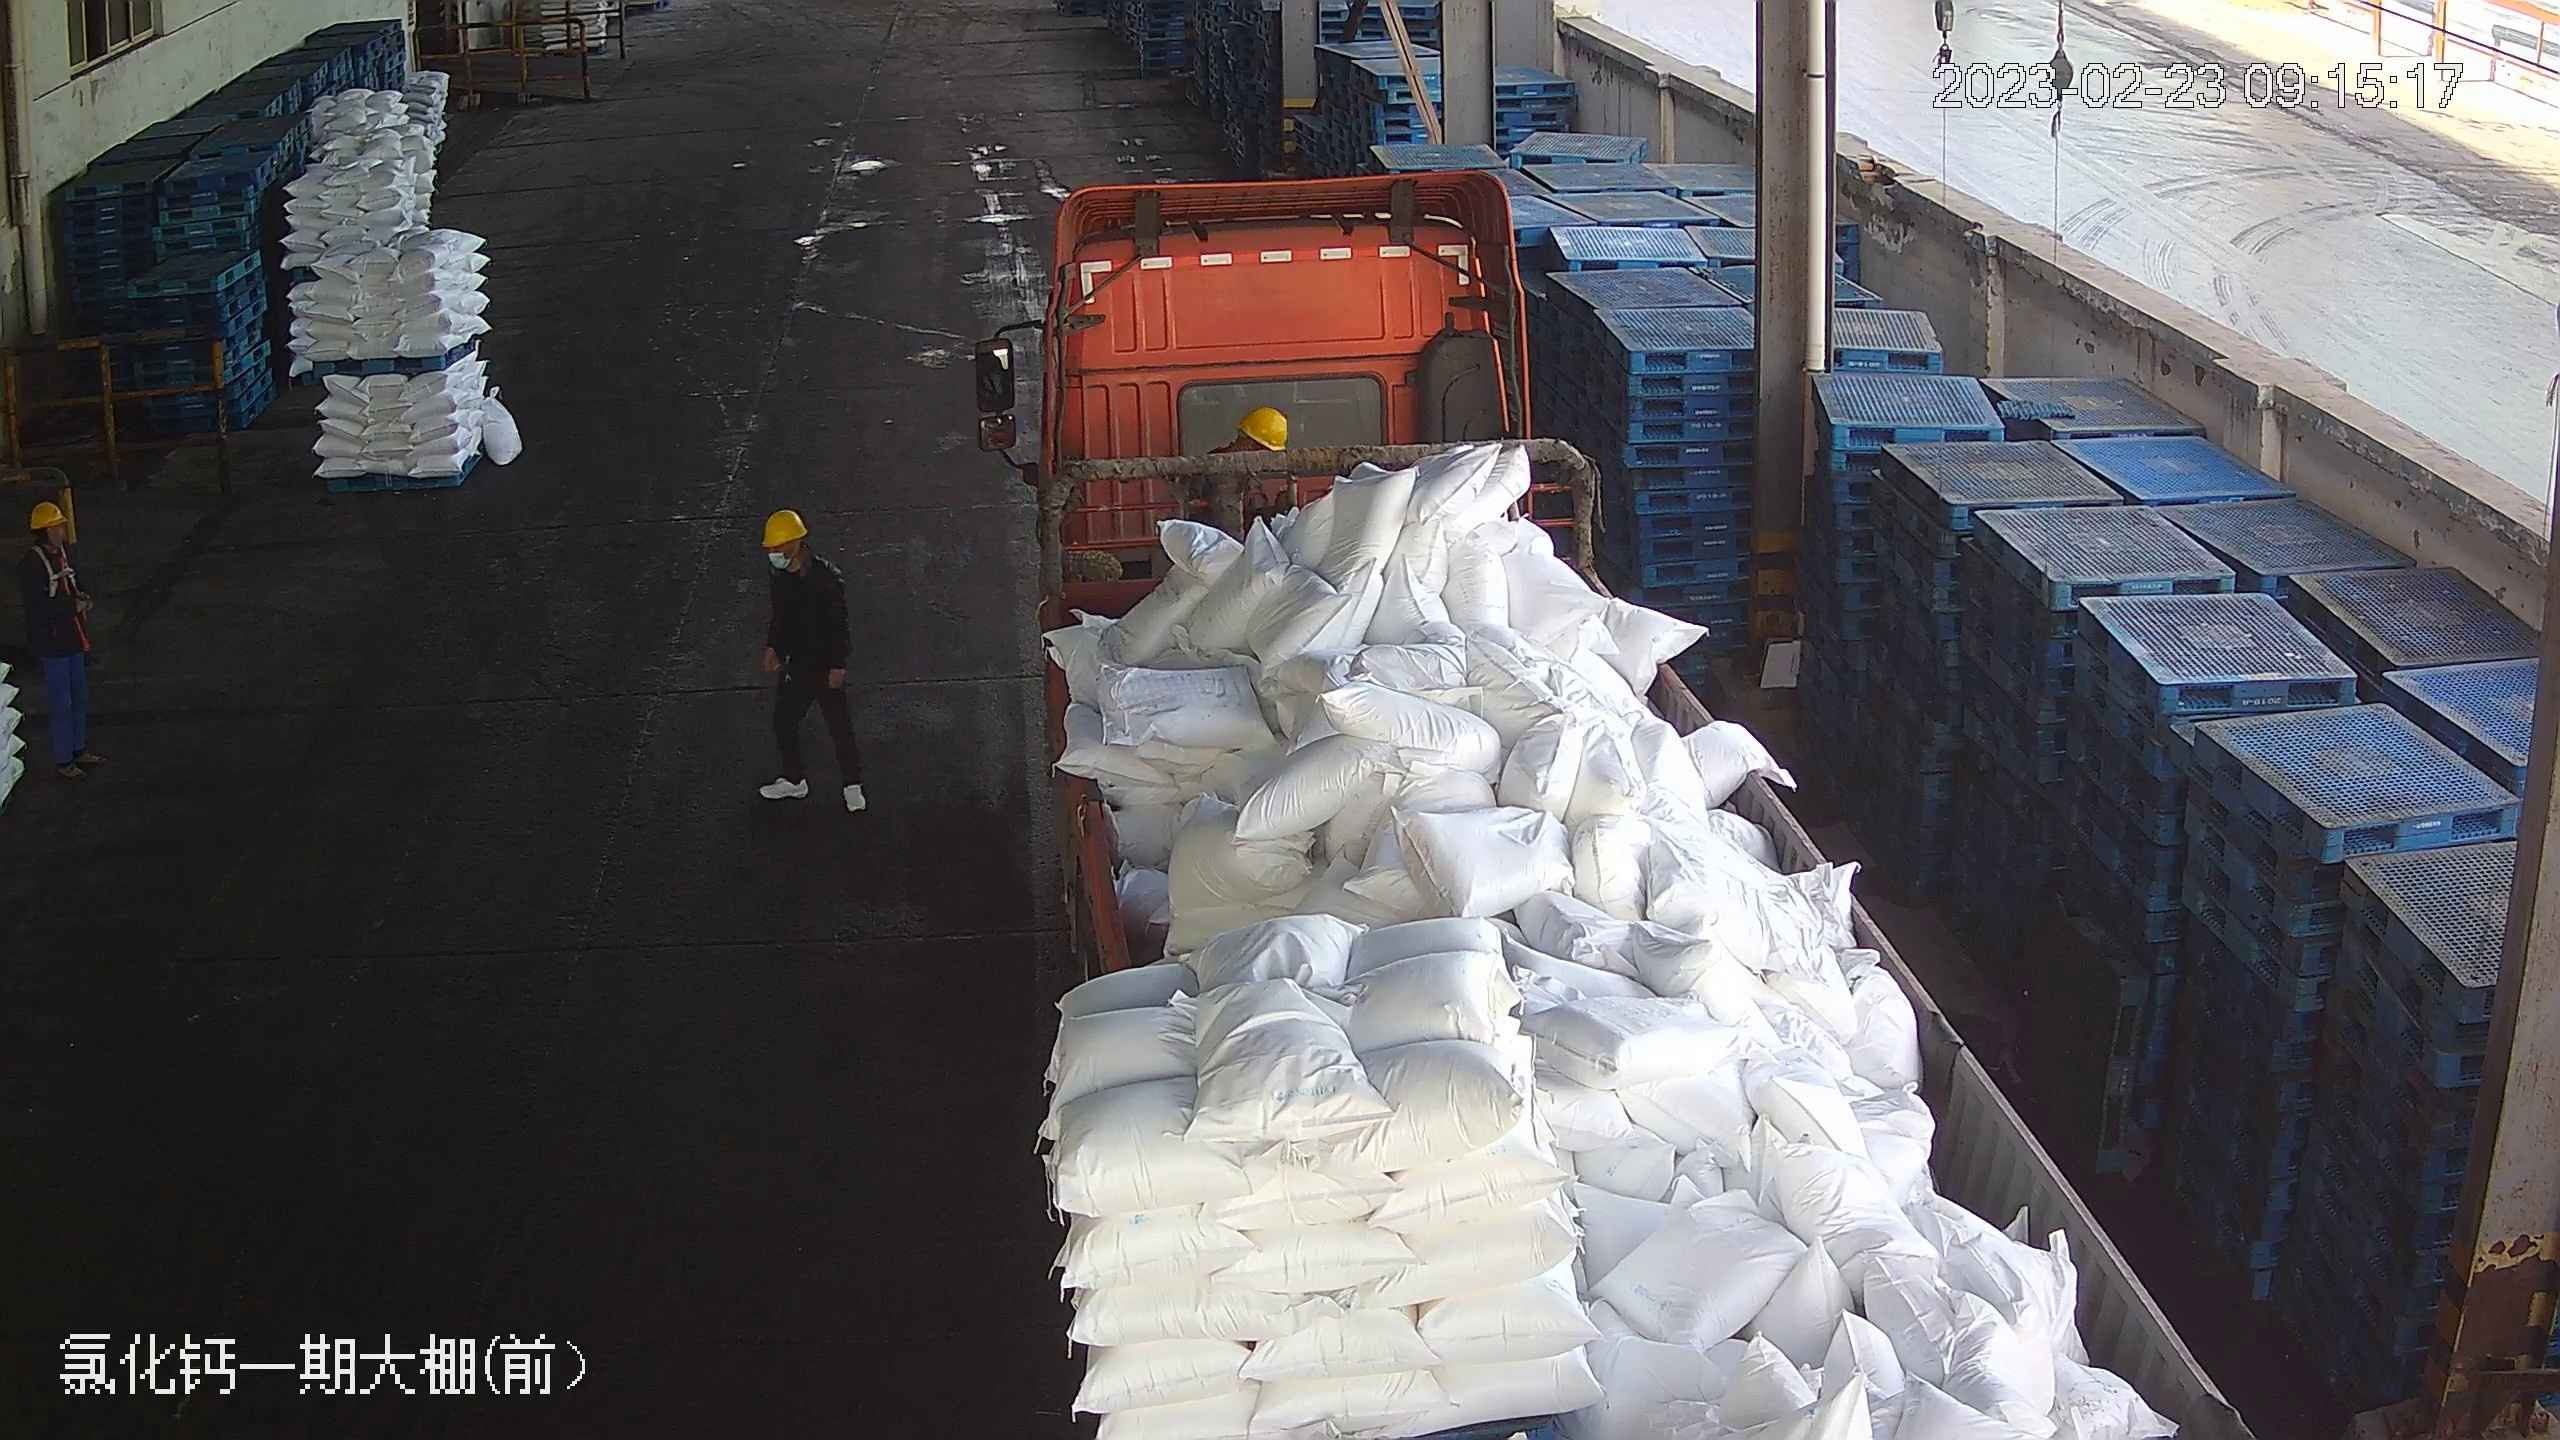belt: (26, 541, 85, 601)
head: (751, 507, 851, 625), (12, 500, 89, 592)
helmet: (1236, 401, 1293, 450), (758, 507, 810, 548), (28, 496, 74, 532)
people: (748, 506, 877, 817), (15, 497, 109, 780)
truck: (981, 174, 2257, 1436)
